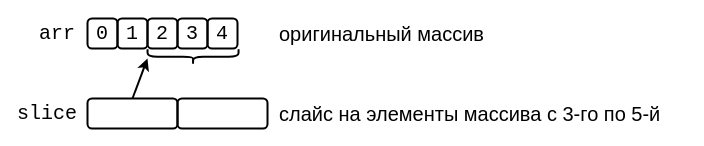
The diagram is 704 pixels wide and 146 high, and some of its shapes have lost their labels. Each missing label, with the box of its shape:
address: (86, 97, 178, 129)
len: 3: (176, 97, 268, 129)
